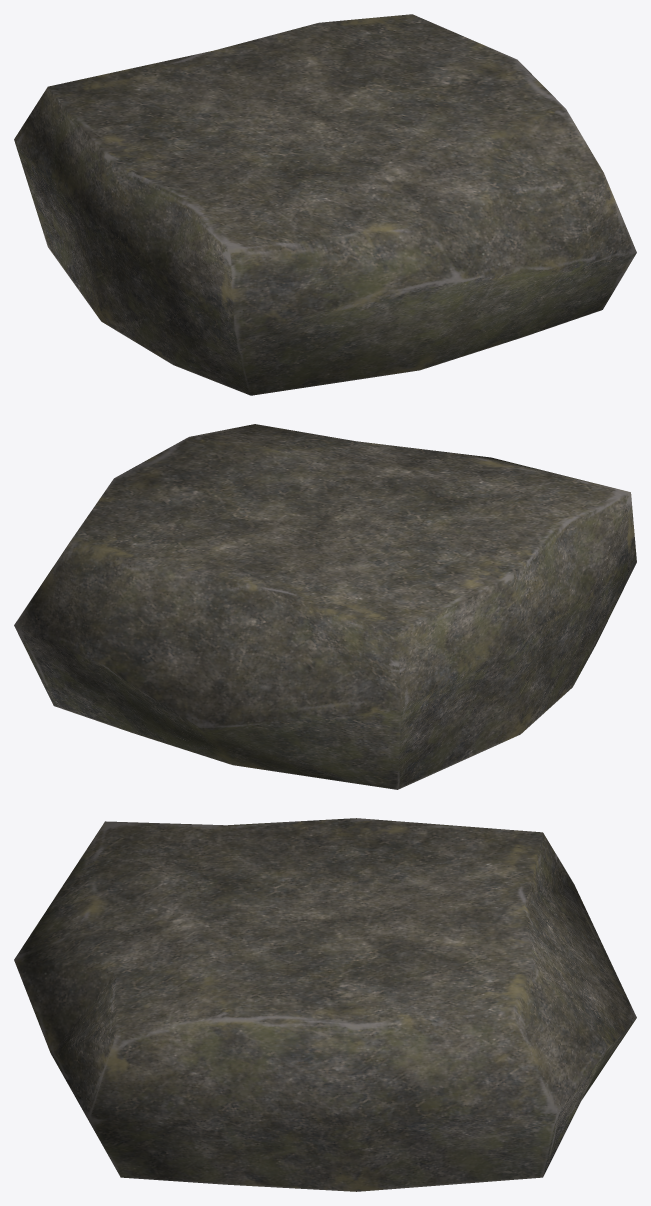
The model's file is SM_Cornerstone.fbx.
3 renders of one model, top to bottom at view 1: azimuth 30°, elevation 25°; view 2: azimuth 150°, elevation 25°; view 3: azimuth 270°, elevation 25°, orthographic. The views are drawn at different scales.
Parts seen in each view (by area): view 1: SM_Cornerstone; view 2: SM_Cornerstone; view 3: SM_Cornerstone.
Boxes of the visible parts, left/top/right/bottom form: SM_Cornerstone: left=14, top=14, right=636, bottom=395; SM_Cornerstone: left=14, top=424, right=636, bottom=789; SM_Cornerstone: left=14, top=818, right=636, bottom=1191.
Size of the model in its own units: 55 by 66.65 by 20.23.
1 material, 1 textured.
